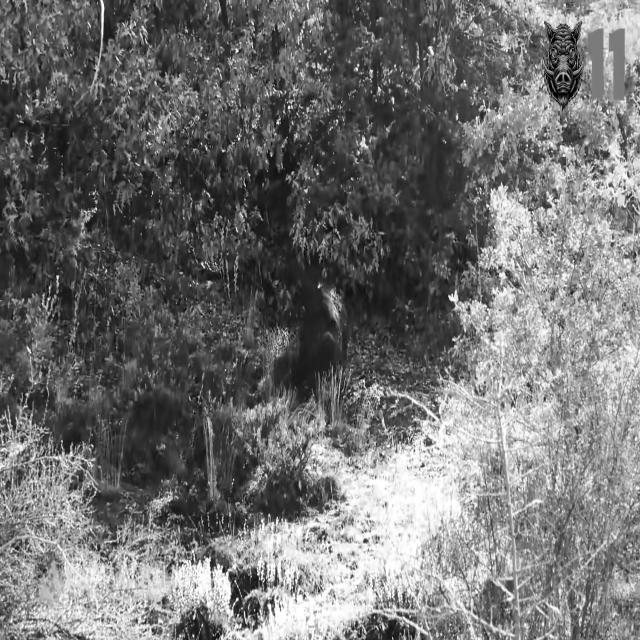boar: (295, 284, 347, 385), (542, 21, 583, 108)
